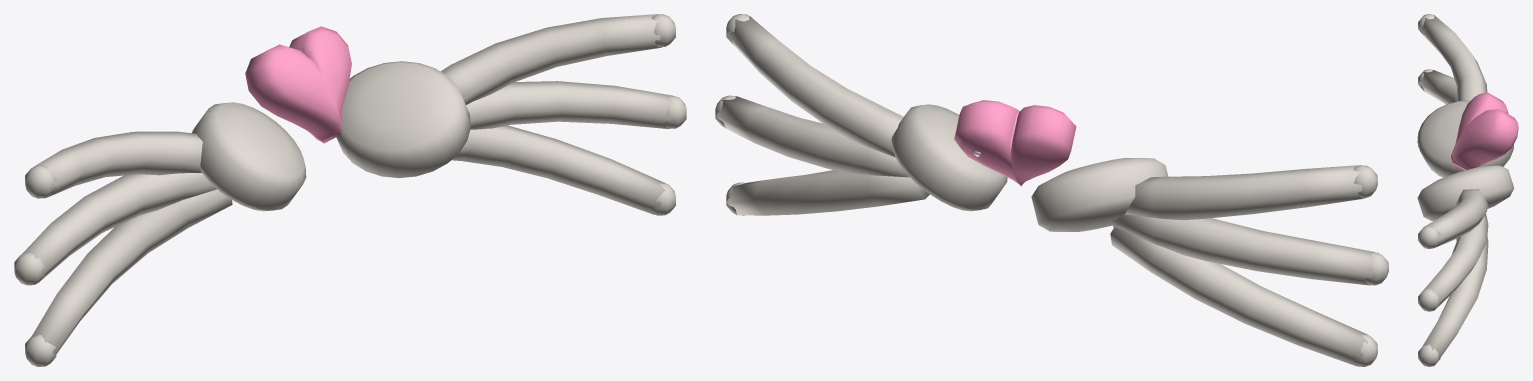
Rendered from moustaches.fbx.
The picture shows the model from 3 angles, left to right: view 1: azimuth 30°, elevation 25°; view 2: azimuth 150°, elevation 25°; view 3: azimuth 270°, elevation 25°; orthographic projection. The views are drawn at different scales.
Visible parts, largest first — view 1: Nez, Anim_MoustachesGauche, Anim_MoustachesDroite; view 2: Anim_MoustachesDroite, Anim_MoustachesGauche, Nez; view 3: Nez, Anim_MoustachesGauche, Anim_MoustachesDroite.
Part boxes in pixels (left/top/right/bottom): Nez: left=192, top=26, right=470, bottom=211; Anim_MoustachesGauche: left=441, top=14, right=686, bottom=215; Anim_MoustachesDroite: left=14, top=131, right=232, bottom=366; Anim_MoustachesDroite: left=1110, top=165, right=1388, bottom=366; Anim_MoustachesGauche: left=715, top=14, right=929, bottom=215; Nez: left=891, top=100, right=1168, bottom=231; Nez: left=1417, top=92, right=1518, bottom=220; Anim_MoustachesGauche: left=1418, top=189, right=1488, bottom=366; Anim_MoustachesDroite: left=1418, top=14, right=1487, bottom=147.
Size of the model in its own units: 1.09 by 0.343 by 0.2041.
